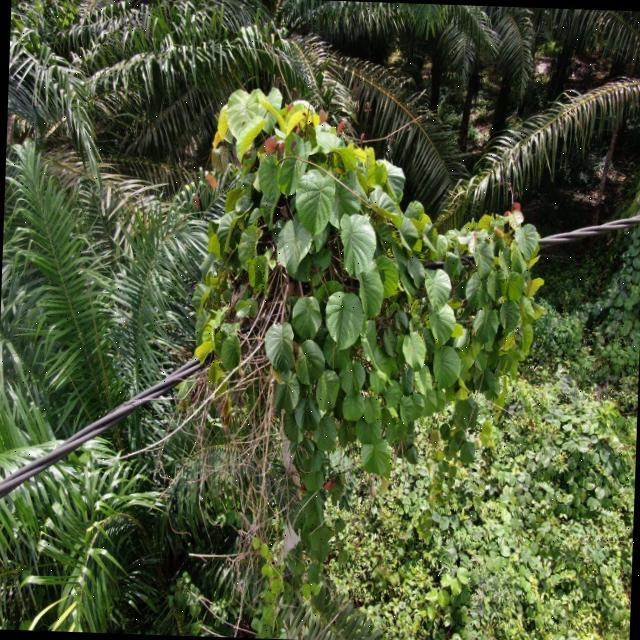critical vegetation: (161, 81, 548, 580)
